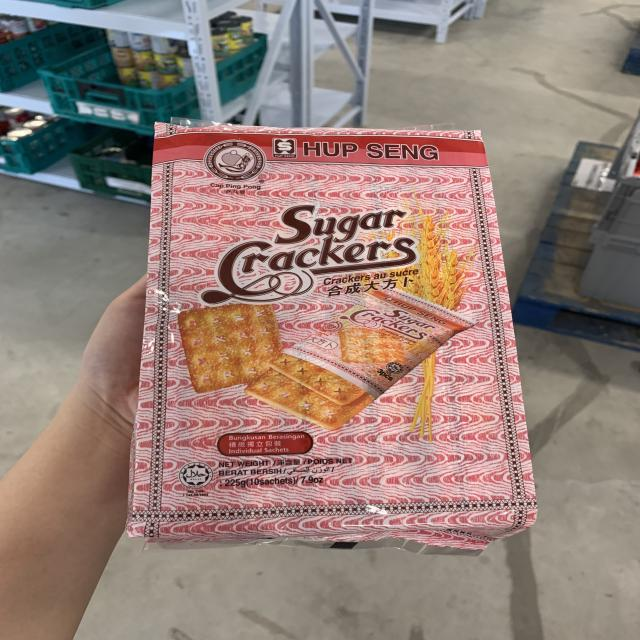object_name: (153, 123, 517, 535)
